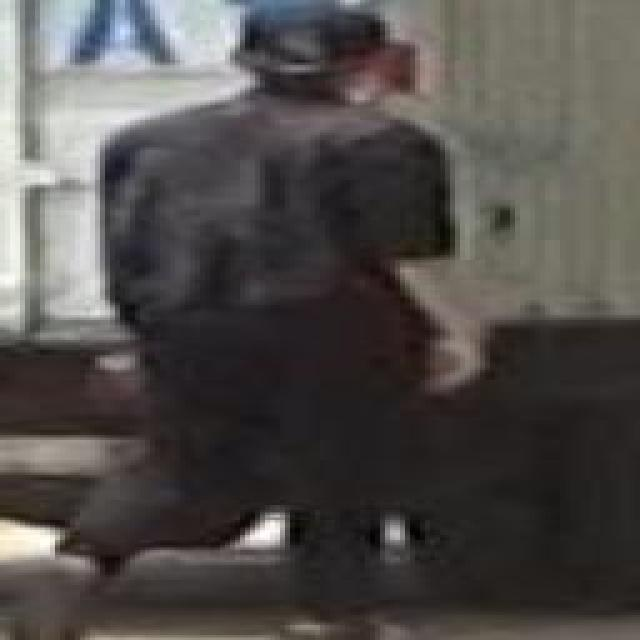adult: (0, 12, 490, 640)
